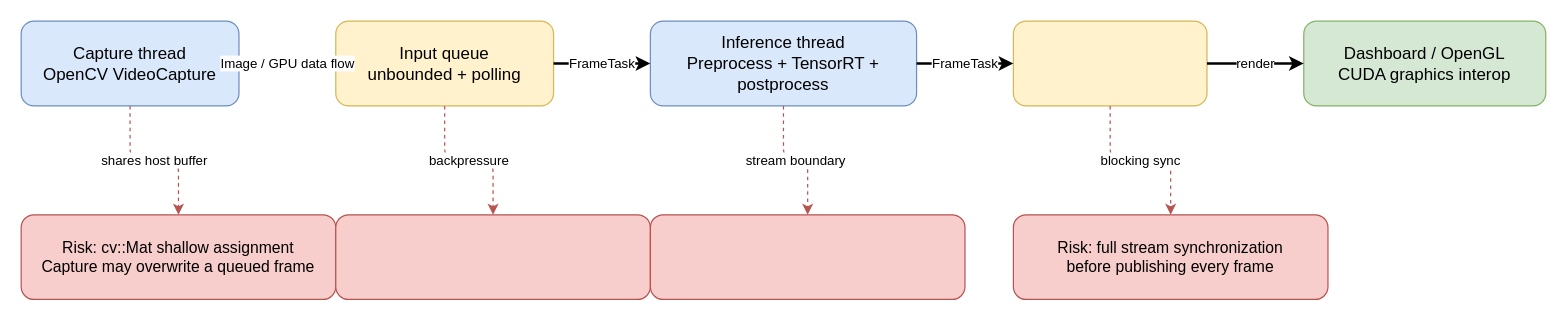
Some shapes in this 1567 by 321 pixel diagram are drawn without their labels. The centre of each missing label's shape, as x and y in pixels:
"Output queue unbounded" goes at point 1109,63.
"Risk: fixed polling and pool exhaustion No explicit drop/latest-frame policy" goes at point 492,256.
"Risk: TensorRT uses a second stream then synchronizes every inference" goes at point 807,256.
